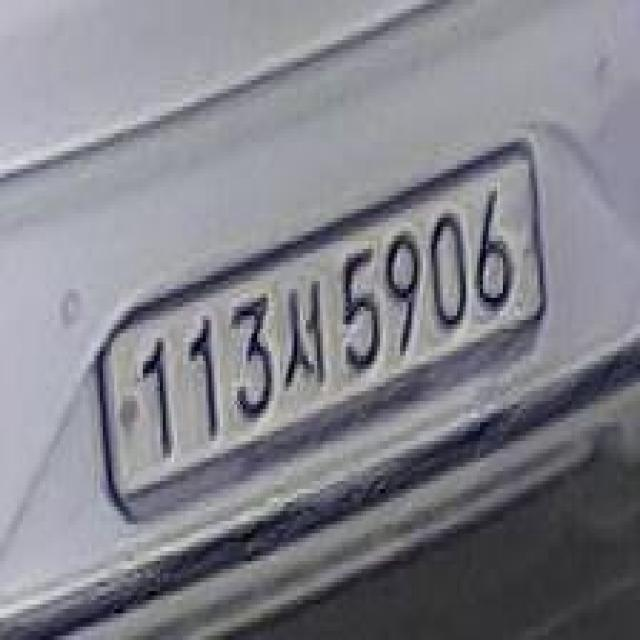illegal_plate: (94, 149, 548, 521)
